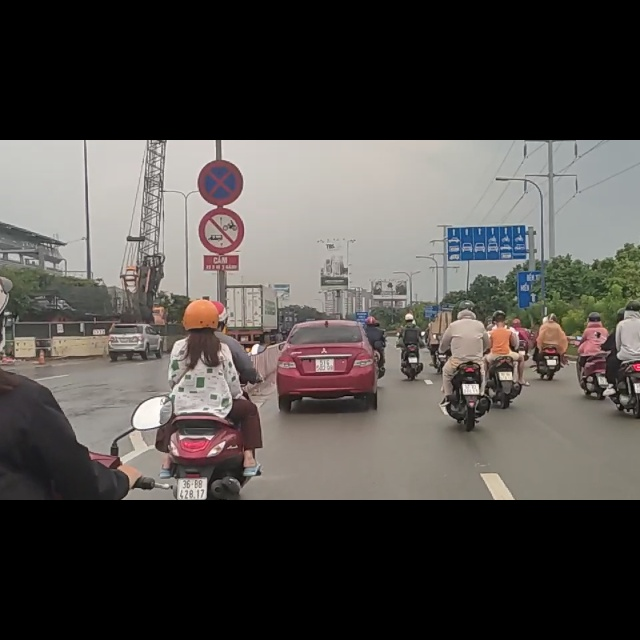bien_cam: (198, 121, 244, 201), (198, 36, 242, 115)
